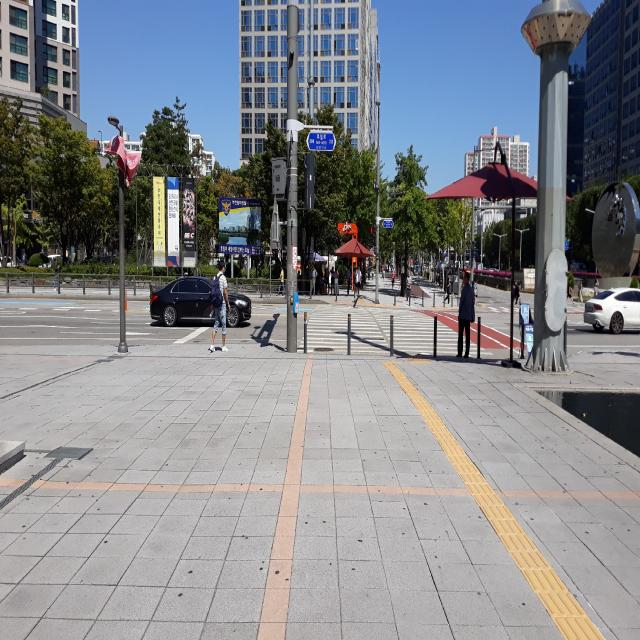빨간불: (368, 223, 374, 249)
횡단보도: (296, 304, 494, 357)
